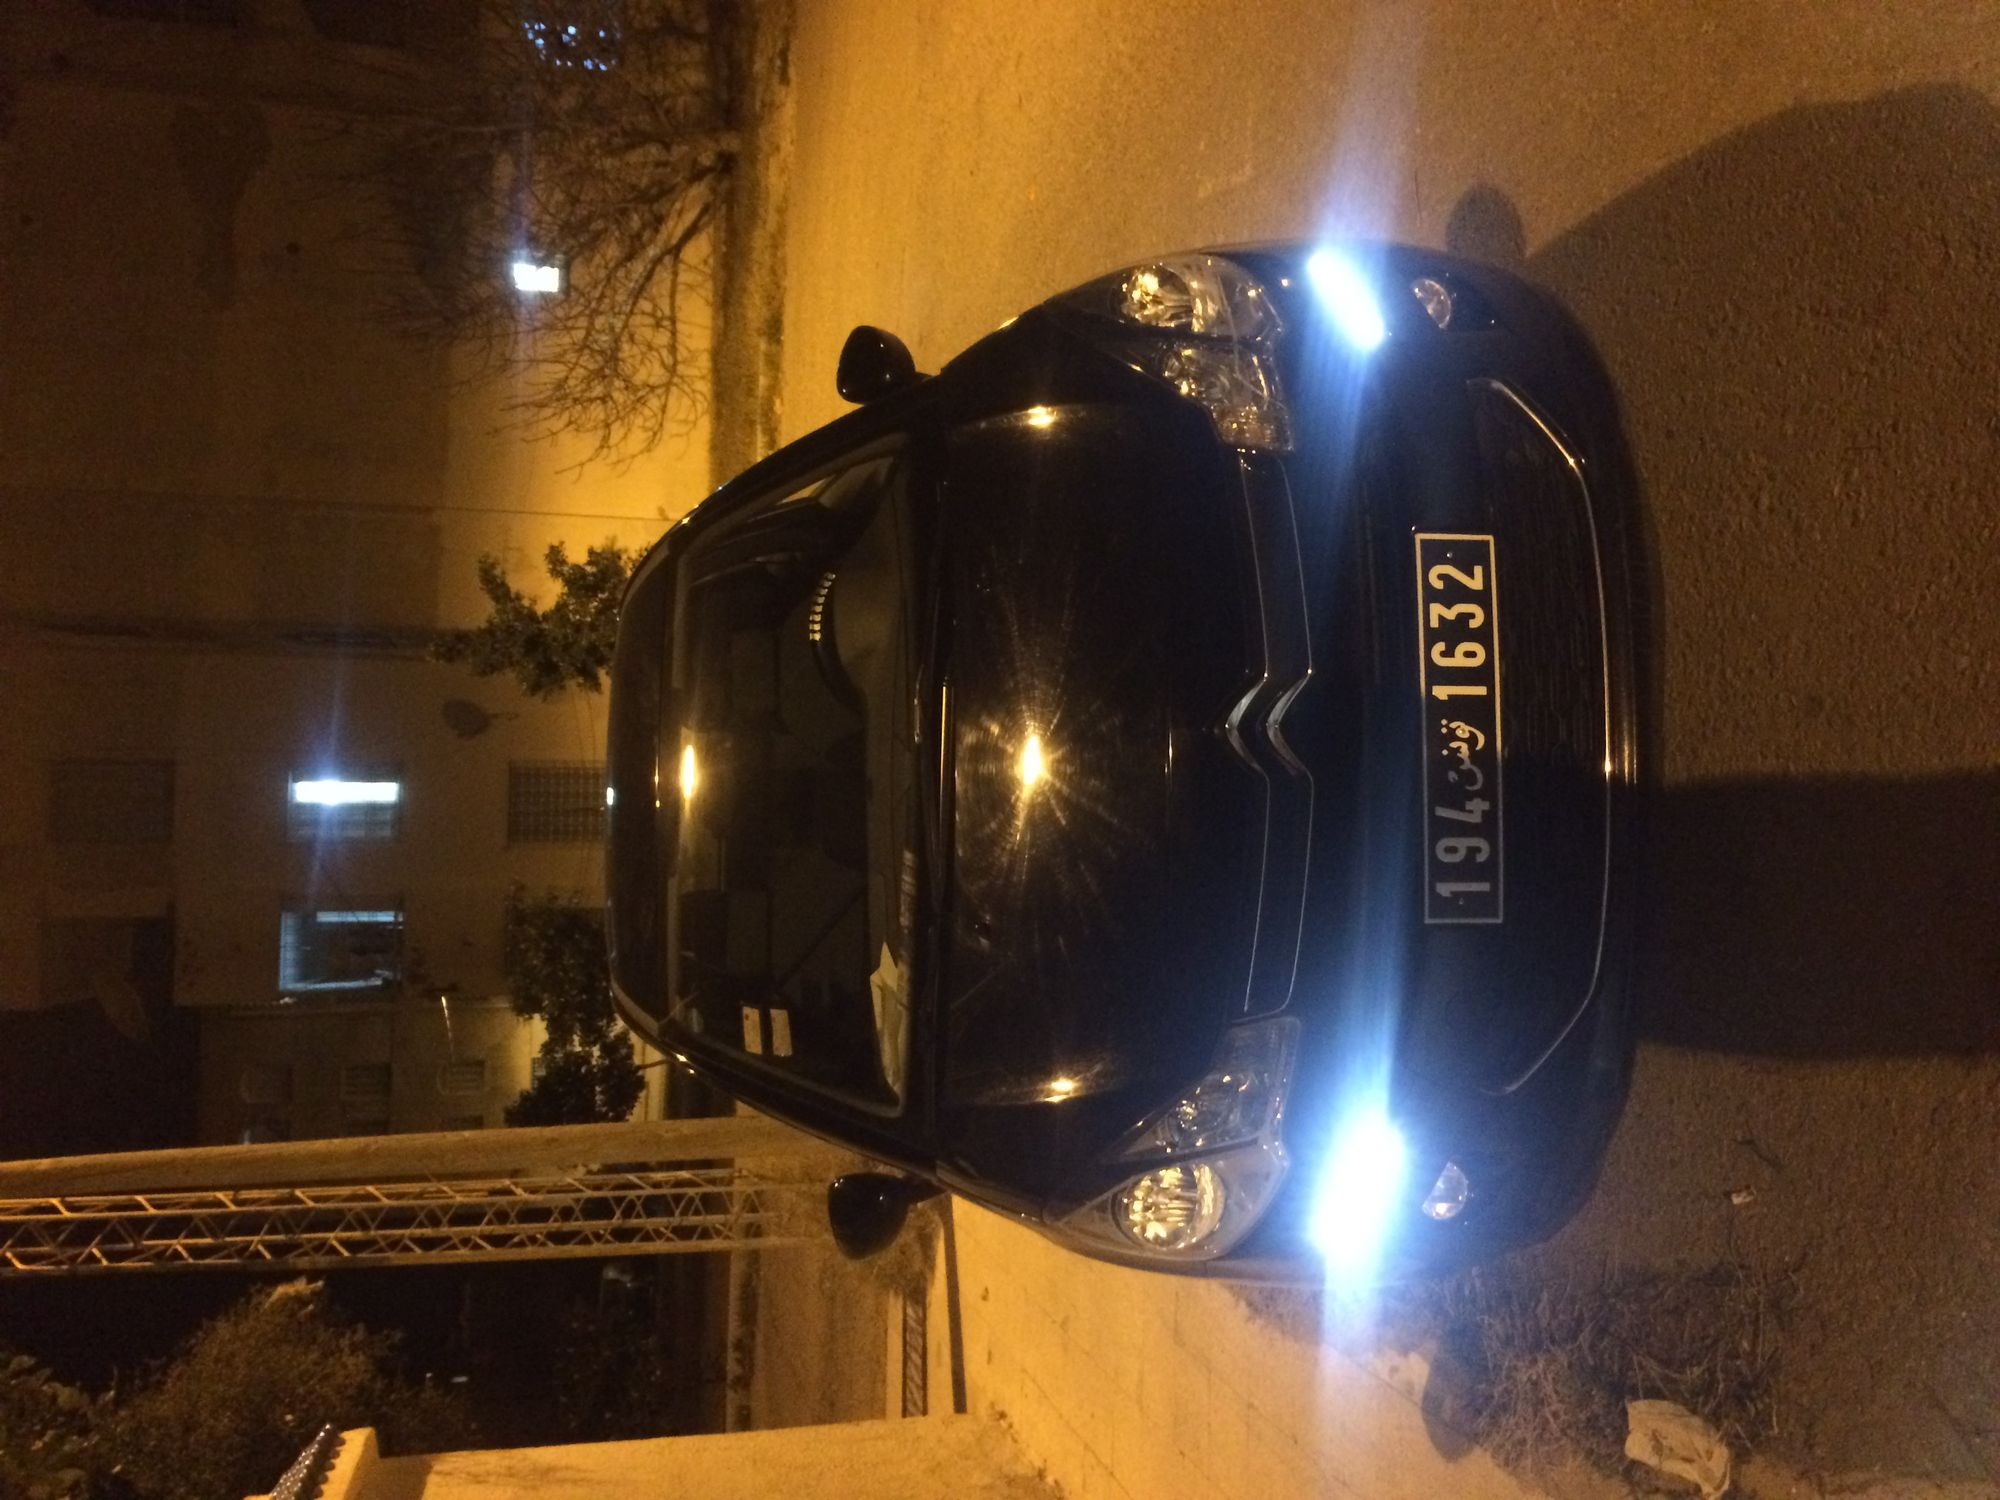LP: (1414, 524, 1507, 943)
